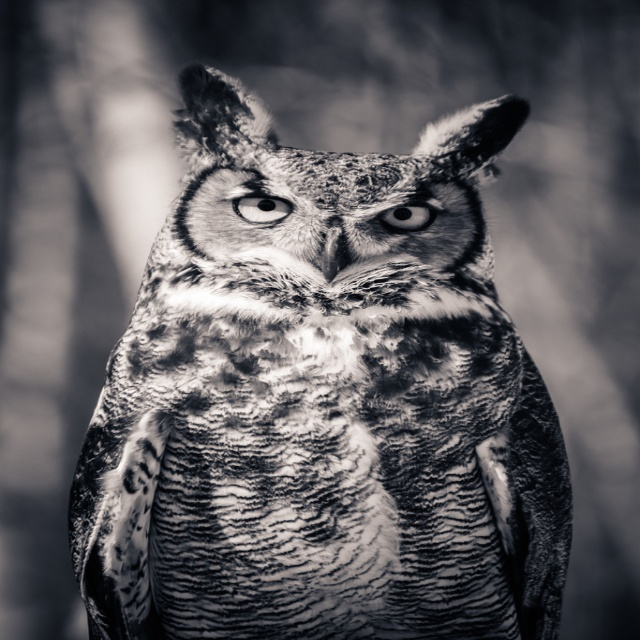Owl: (71, 65, 573, 640)
